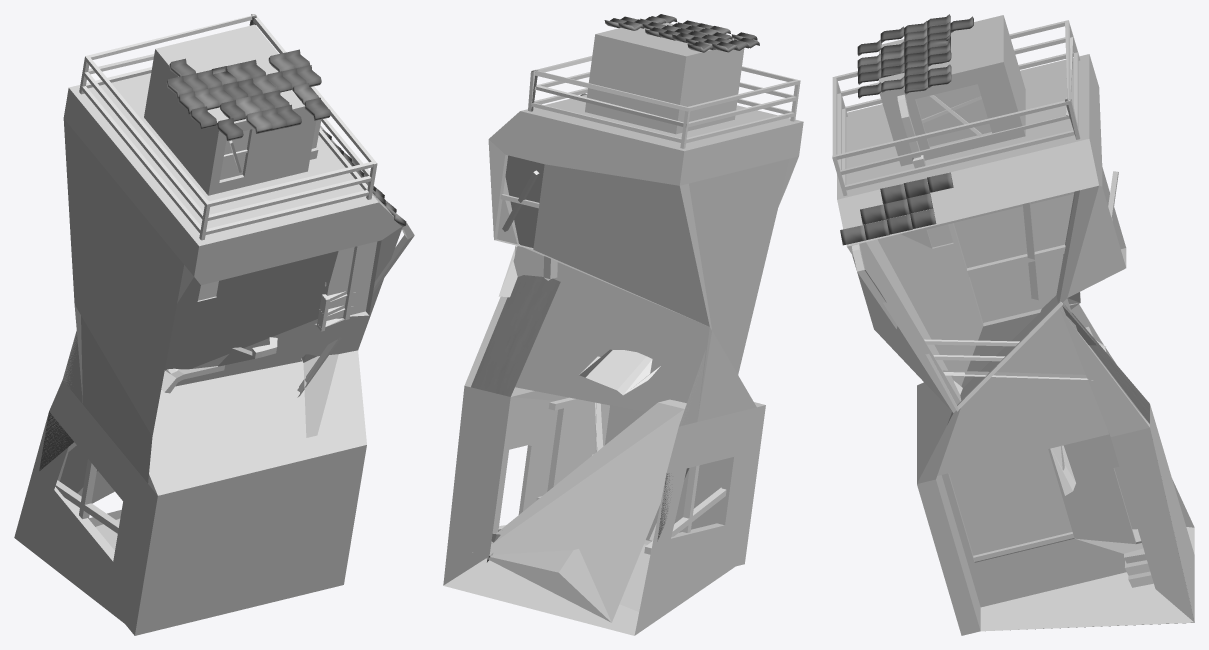
The model's file is Casa3DestruidaVer2.fbx.
3 renders of one model, left to right at view 1: azimuth 30°, elevation 25°; view 2: azimuth 150°, elevation 25°; view 3: azimuth 270°, elevation 25°, orthographic. The views are drawn at different scales.
Parts seen in each view (by area): view 1: Casa3DestruidaVer2; view 2: Casa3DestruidaVer2; view 3: Casa3DestruidaVer2.
Part boxes in pixels (x1,y1,x2,y2): Casa3DestruidaVer2: (14,14,414,635); Casa3DestruidaVer2: (443,14,803,635); Casa3DestruidaVer2: (832,14,1194,635).
Bounding box in the file's own units: 940 × 2127 × 1289.
